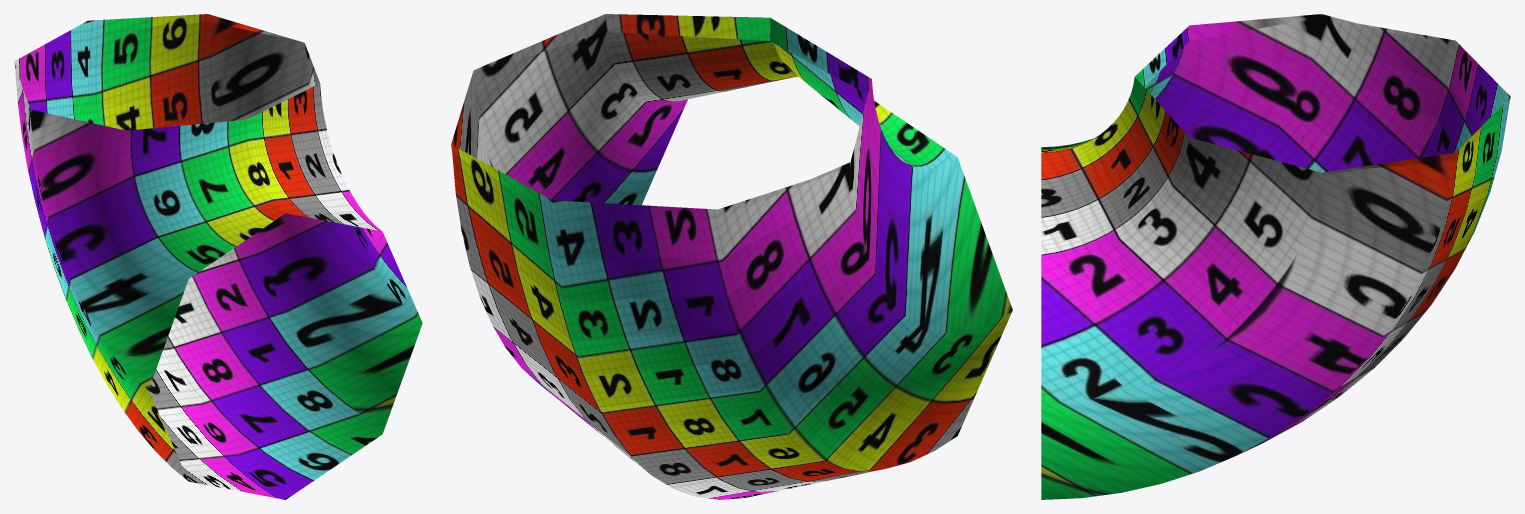
3 views of the same model, side by side, from view 1: azimuth 30°, elevation 25°; view 2: azimuth 150°, elevation 25°; view 3: azimuth 270°, elevation 25° (orthographic). The views are drawn at different scales.
Parts seen in each view (by area): view 1: pipe; view 2: pipe; view 3: pipe.
Boxes of the visible parts, x1,y1,x2,y2 form: pipe: (14, 14, 422, 499); pipe: (451, 14, 1012, 499); pipe: (1041, 14, 1510, 499).
Size of the model in its own units: 0.12 by 0.1471 by 0.15.
